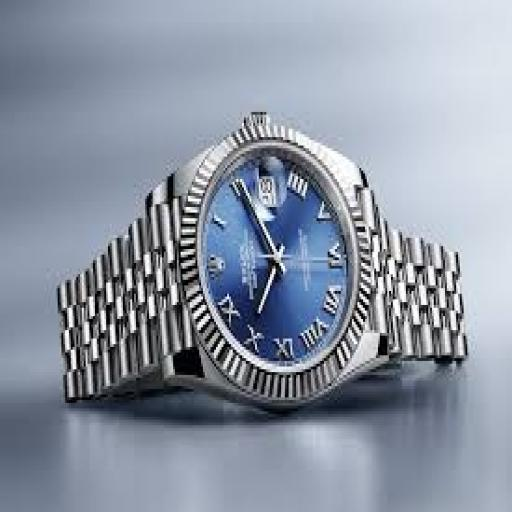KolSaati: (26, 99, 481, 440)
